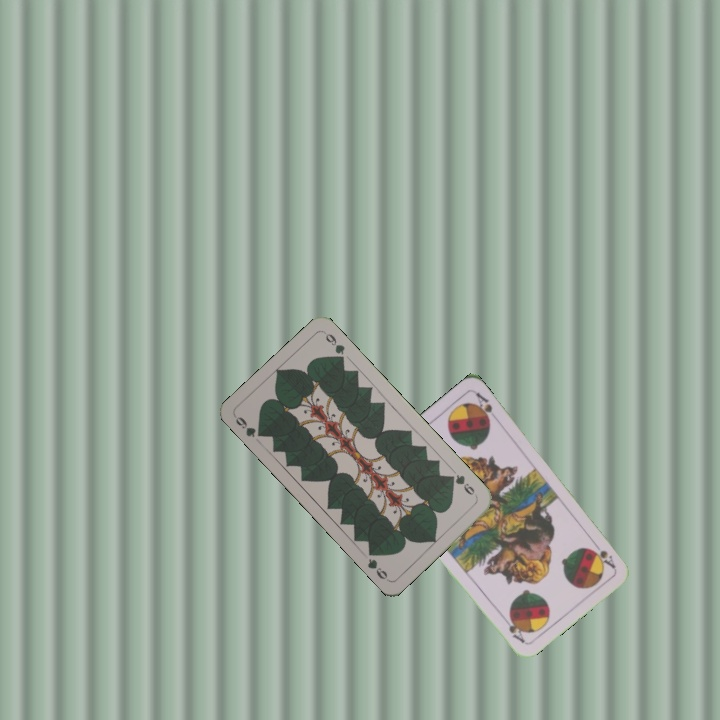G9: (445, 470, 480, 500), (231, 412, 267, 440)
SA: (588, 536, 618, 571)
